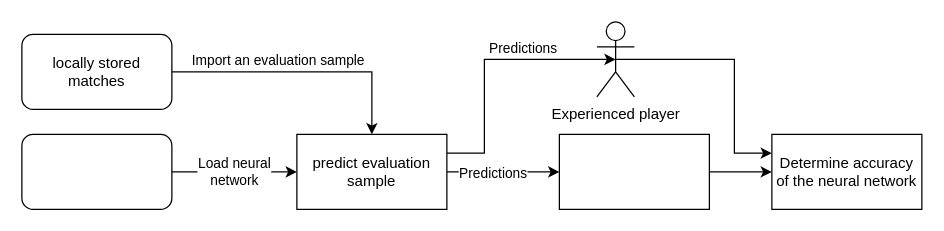
The diagram is 944 pixels wide and 231 high, and some of its shapes have lost their labels. Each missing label, with the centre of its shape:
Compare predictions with labels: point 633,171
Locally stored nodes: point 96,171
